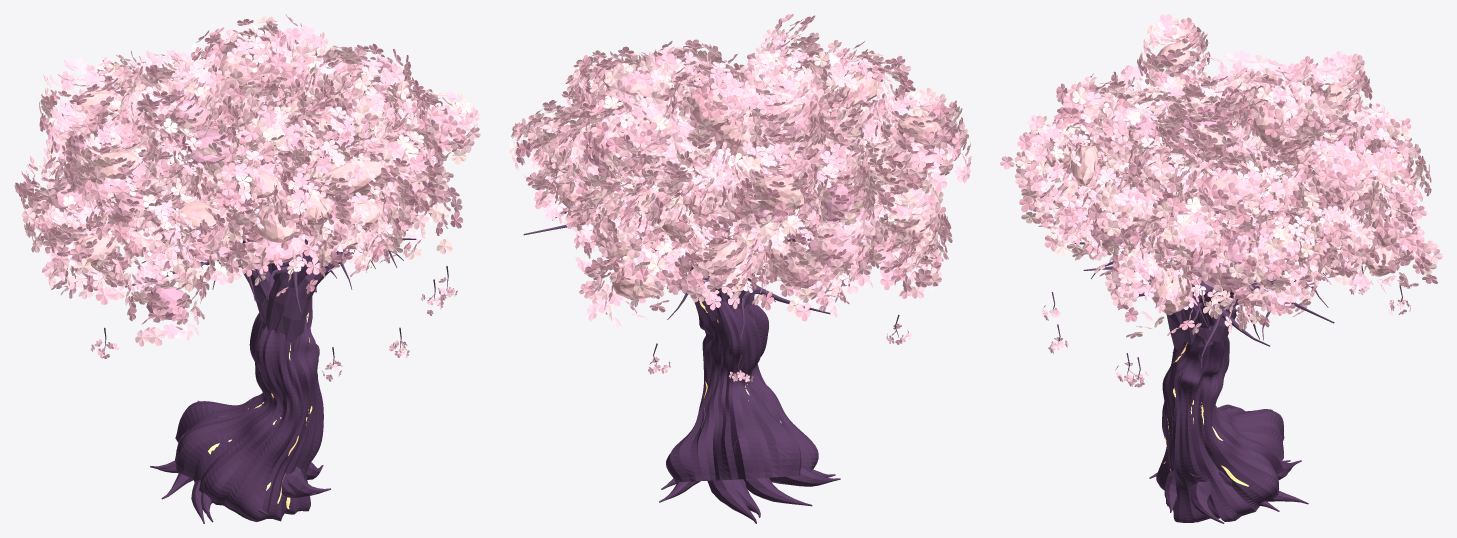
File: r13_quality.glb
3 renders of one model, left to right at view 1: azimuth 30°, elevation 25°; view 2: azimuth 150°, elevation 25°; view 3: azimuth 270°, elevation 25°, orthographic. The views are drawn at different scales.
Visible parts, largest first — view 1: Sakura_petal_pink, Sakura_petal_blush, Trunk_bark_plumblack, Sakura_petal_warm_rose, Sakura_petal_cream, Canopy_peach, Branches_plum, Canopy_rose, Canopy_depth_rose; view 2: Sakura_petal_pink, Sakura_petal_blush, Trunk_bark_plumblack, Sakura_petal_warm_rose, Sakura_petal_cream, Canopy_peach, Canopy_rose, Branches_plum, Canopy_depth_rose; view 3: Sakura_petal_pink, Sakura_petal_blush, Trunk_bark_plumblack, Sakura_petal_warm_rose, Sakura_petal_cream, Canopy_peach, Branches_plum, Canopy_rose, Canopy_depth_rose.
Boxes of the visible parts, x1,y1,x2,y2 form: Sakura_petal_pink: [14, 14, 471, 381]; Sakura_petal_blush: [18, 23, 480, 376]; Trunk_bark_plumblack: [150, 259, 341, 523]; Sakura_petal_warm_rose: [26, 19, 467, 338]; Sakura_petal_cream: [24, 16, 471, 315]; Canopy_peach: [61, 54, 418, 282]; Branches_plum: [102, 234, 448, 449]; Canopy_rose: [48, 52, 449, 263]; Canopy_depth_rose: [66, 87, 301, 319]; Sakura_petal_pink: [512, 19, 970, 382]; Sakura_petal_blush: [521, 24, 971, 381]; Trunk_bark_plumblack: [659, 297, 840, 523]; Sakura_petal_warm_rose: [514, 14, 967, 310]; Sakura_petal_cream: [509, 27, 962, 320]; Canopy_peach: [544, 63, 942, 299]; Canopy_rose: [585, 109, 936, 267]; Branches_plum: [523, 211, 899, 462]; Canopy_depth_rose: [579, 72, 906, 236]; Sakura_petal_pink: [1000, 25, 1437, 387]; Sakura_petal_blush: [1014, 17, 1442, 387]; Trunk_bark_plumblack: [1149, 308, 1308, 523]; Sakura_petal_warm_rose: [1017, 14, 1431, 329]; Sakura_petal_cream: [1016, 17, 1436, 338]; Canopy_peach: [1045, 42, 1397, 315]; Branches_plum: [1051, 242, 1402, 477]; Canopy_rose: [1090, 86, 1347, 287]; Canopy_depth_rose: [1120, 103, 1356, 278].
Size of the model in its own units: 26.43 by 27.99 by 25.92.
